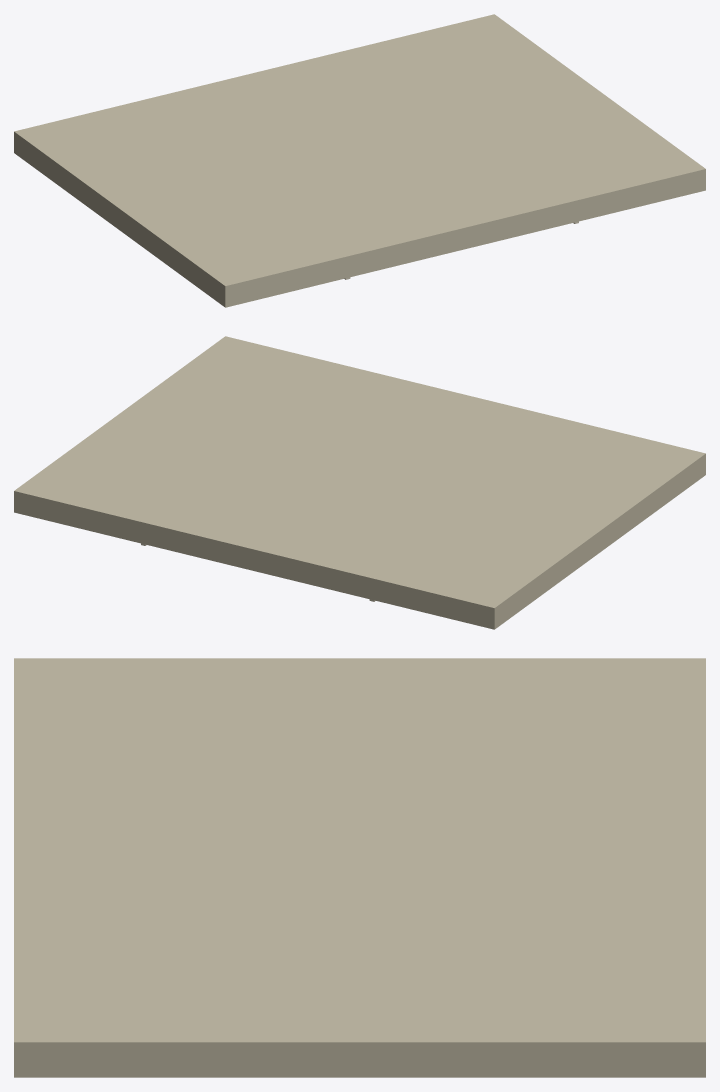
Rendered from map.glb.
3 views of the same model, one above another, from view 1: azimuth 30°, elevation 25°; view 2: azimuth 150°, elevation 25°; view 3: azimuth 270°, elevation 25° (orthographic). The views are drawn at different scales.
Parts seen in each view (by area): view 1: 00_folded_map; view 2: 00_folded_map; view 3: 00_folded_map.
Boxes of the visible parts, box(x1,y1,x2,y2) form: 00_folded_map: box(14, 14, 705, 307); 00_folded_map: box(14, 336, 705, 629); 00_folded_map: box(14, 658, 705, 1077).
Size of the model in its own units: 0.42 by 0.0332 by 0.32.
